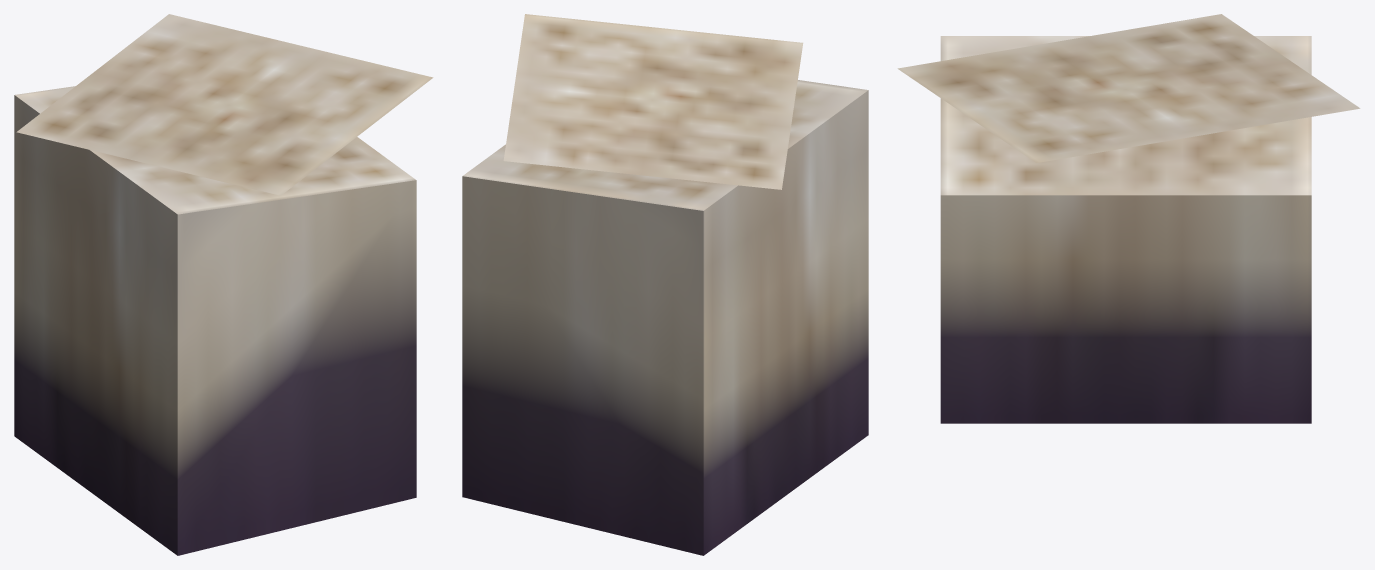
Rendered from etc_prop_9_2.FBX.
3 views of the same model, side by side, from view 1: azimuth 30°, elevation 25°; view 2: azimuth 150°, elevation 25°; view 3: azimuth 270°, elevation 25° (orthographic). The views are drawn at different scales.
Visible parts, largest first — view 1: Object029; view 2: Object029; view 3: Object029.
Part boxes in pixels (bbox=[...]): Object029: bbox=[14, 14, 433, 555]; Object029: bbox=[462, 14, 868, 555]; Object029: bbox=[897, 14, 1360, 423].
Size of the model in its own units: 20.13 by 21.47 by 21.2.
